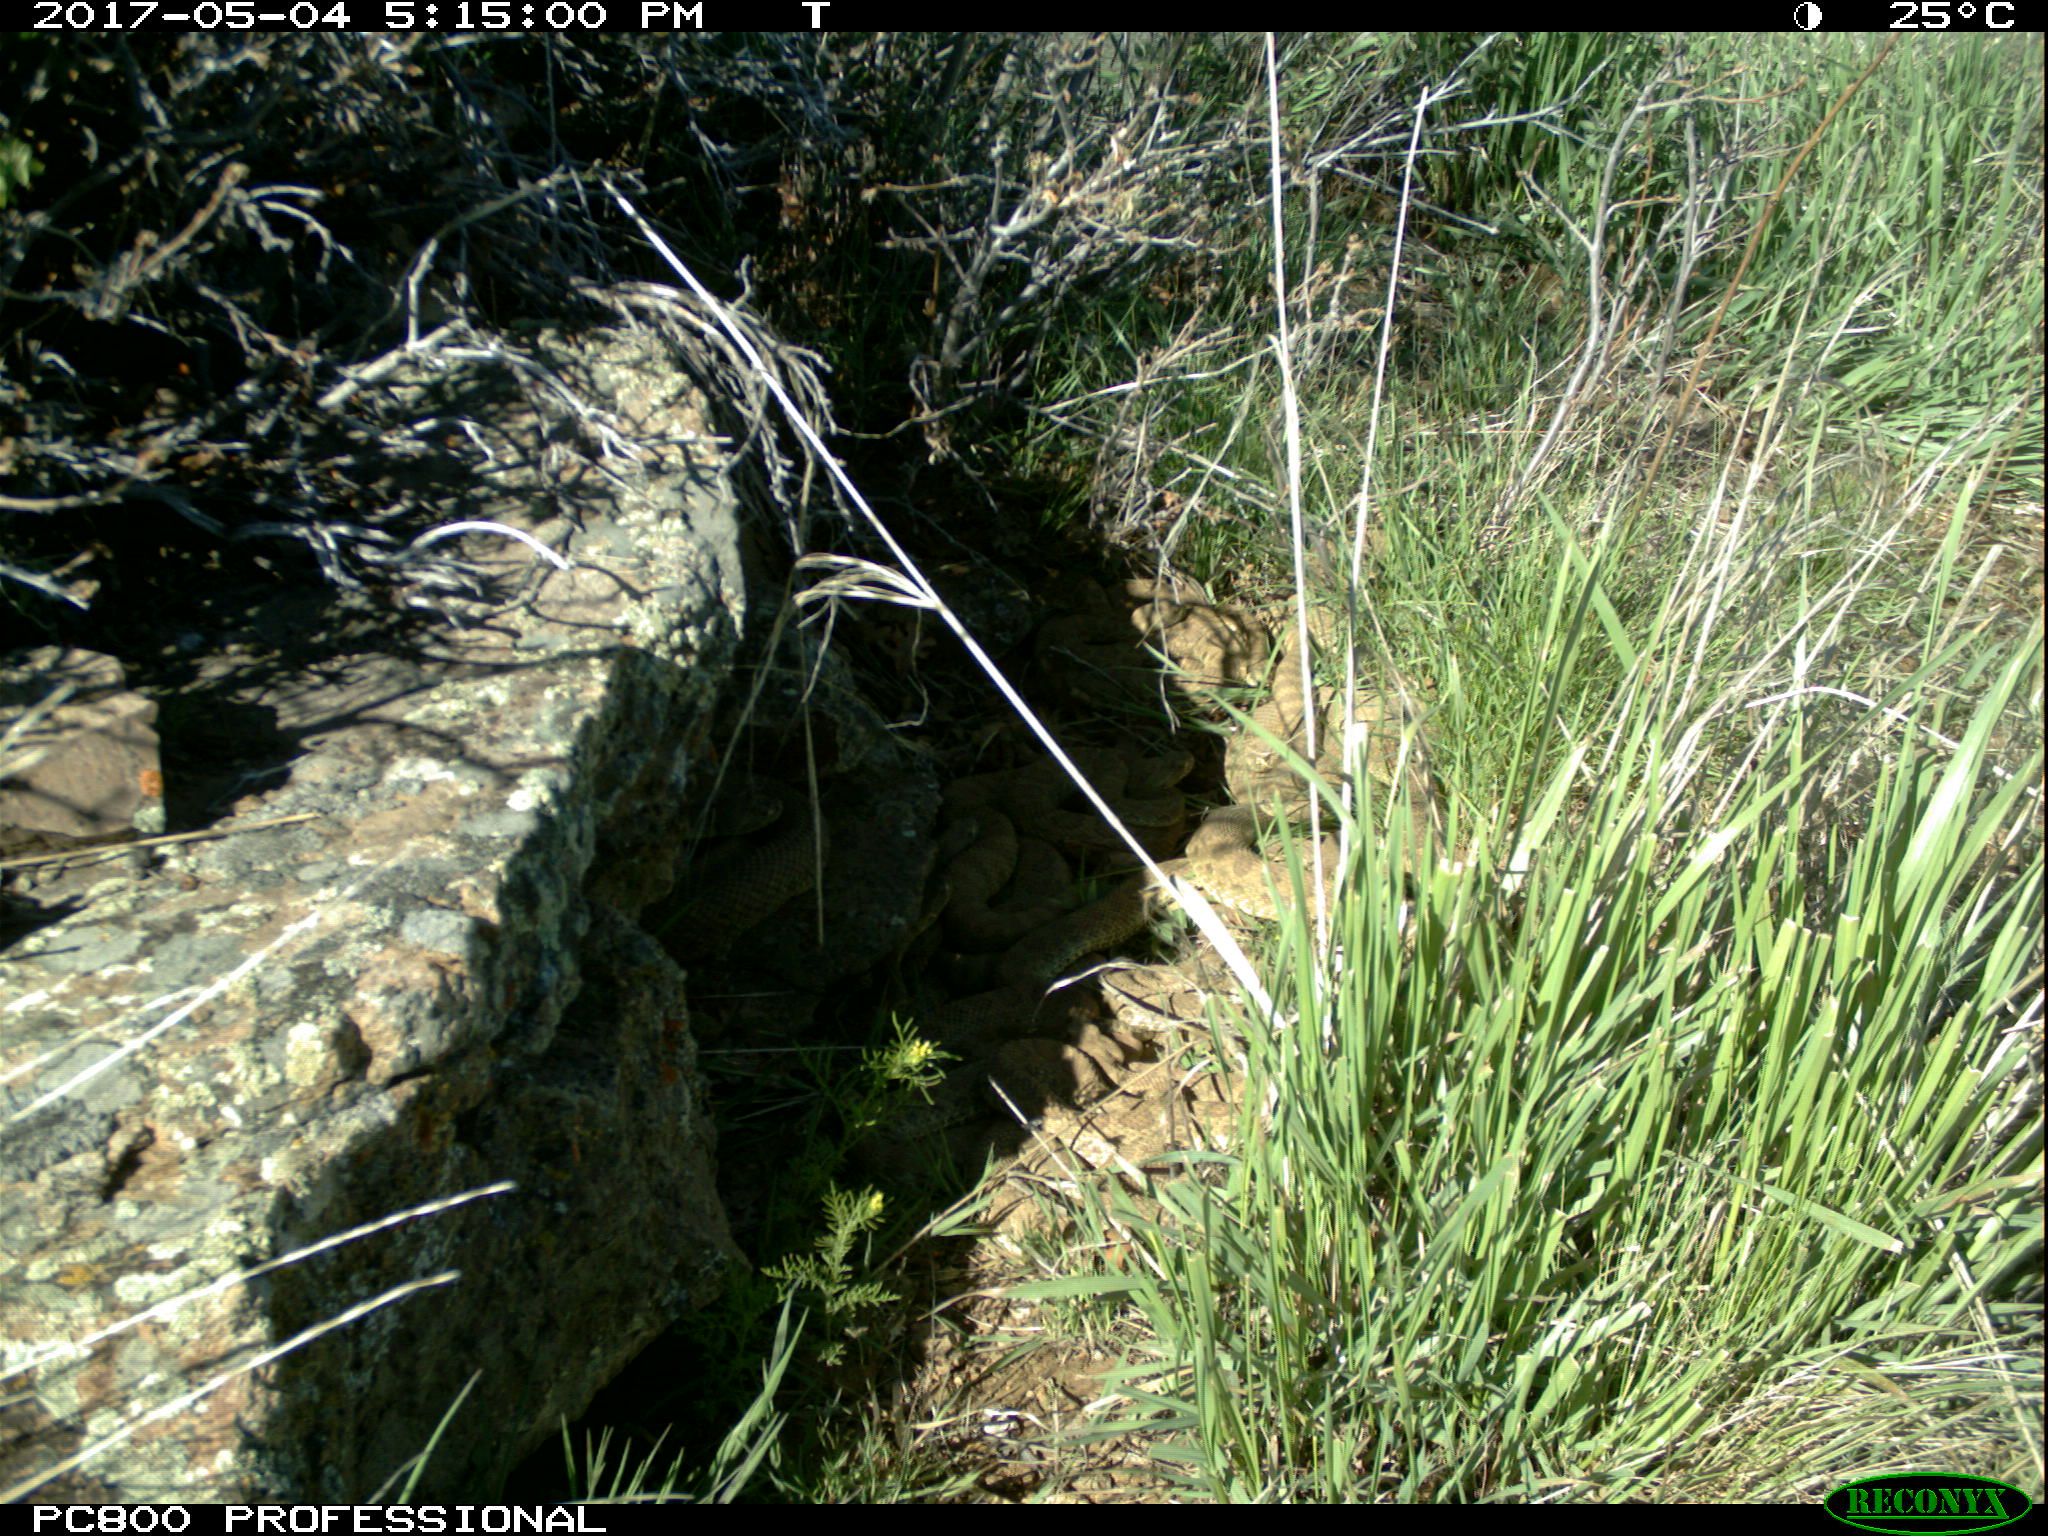snake: (1121, 573, 1435, 949), (930, 966, 1288, 1181), (940, 752, 1190, 957), (647, 779, 826, 947)
